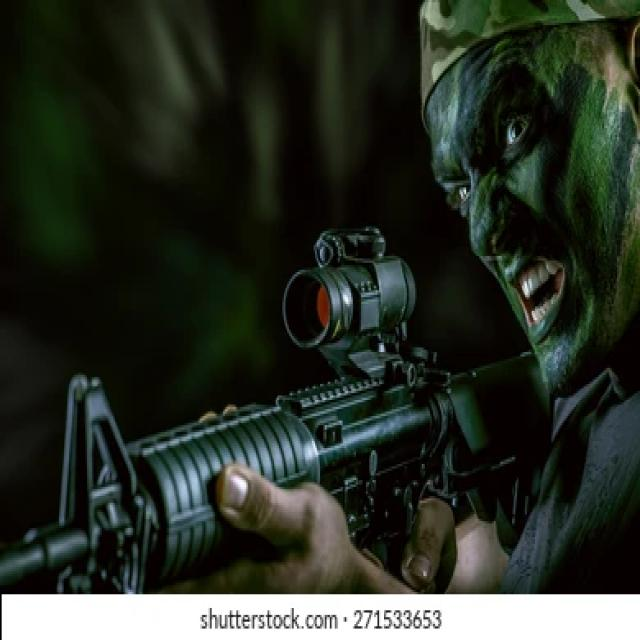soldier: (1, 3, 639, 588)
